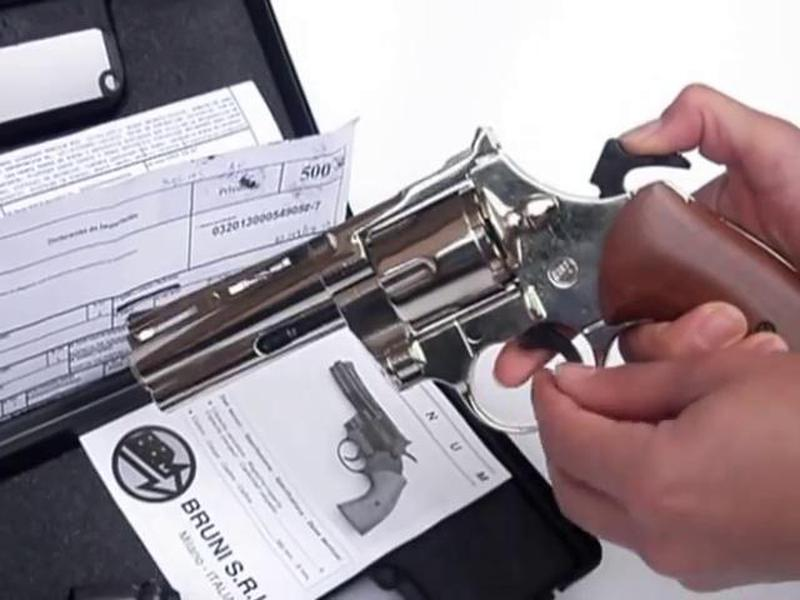Revolver: (90, 114, 800, 452)
